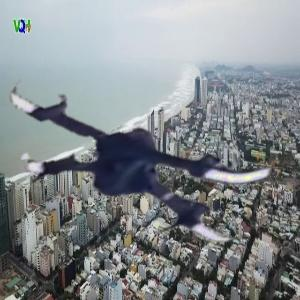drone: (10, 7, 280, 277)
